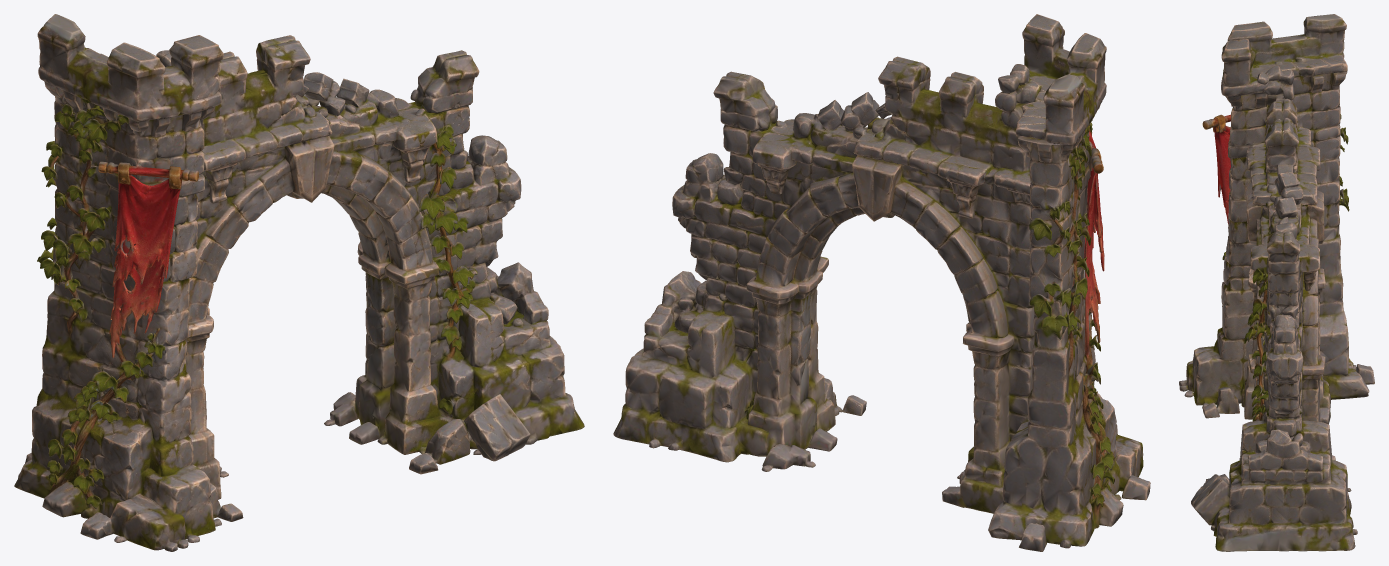
The model's file is gothic_gate.glb.
The picture shows the model from 3 angles, left to right: view 1: azimuth 30°, elevation 25°; view 2: azimuth 150°, elevation 25°; view 3: azimuth 270°, elevation 25°; orthographic projection. The views are drawn at different scales.
Parts seen in each view (by area): view 1: gothic_gate; view 2: gothic_gate; view 3: gothic_gate.
Boxes of the visible parts, bbox=[...] form: gothic_gate: bbox=[14, 14, 584, 551]; gothic_gate: bbox=[613, 14, 1150, 551]; gothic_gate: bbox=[1179, 14, 1374, 551].
Size of the model in its own units: 1.9 by 1.73 by 0.842.
1 material, 1 textured.
